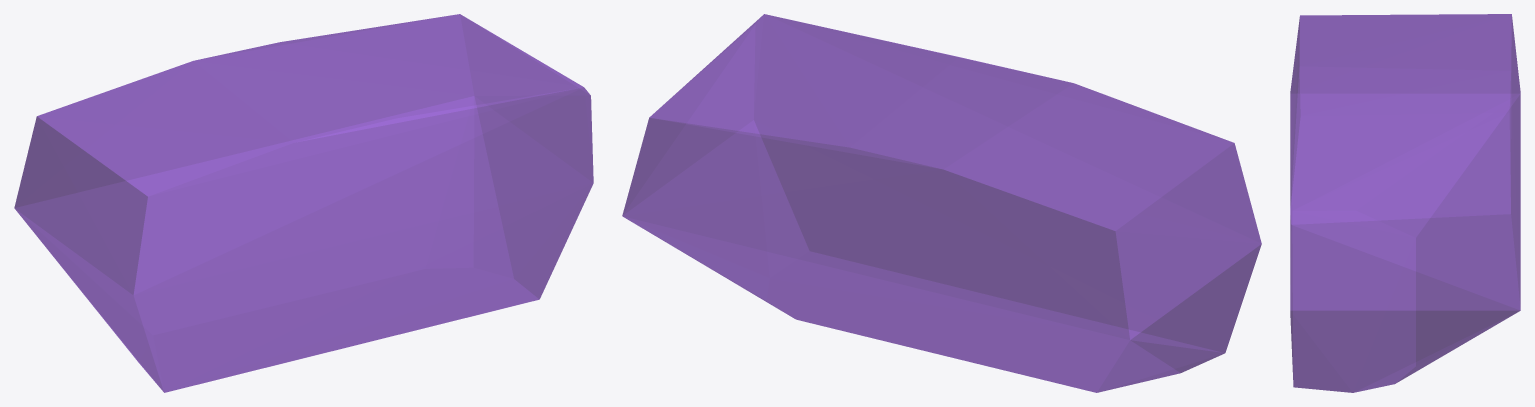
The picture shows the model from 3 angles, left to right: view 1: azimuth 30°, elevation 25°; view 2: azimuth 150°, elevation 25°; view 3: azimuth 270°, elevation 25°; orthographic projection. The views are drawn at different scales.
Visible parts, largest first — view 1: Shape_IndexedFaceSet.022_Shape_IndexedFaceSet.16004; view 2: Shape_IndexedFaceSet.022_Shape_IndexedFaceSet.16004; view 3: Shape_IndexedFaceSet.022_Shape_IndexedFaceSet.16004.
Boxes of the visible parts, x1=… form: Shape_IndexedFaceSet.022_Shape_IndexedFaceSet.16004: x1=14, y1=14, x2=593, y2=392; Shape_IndexedFaceSet.022_Shape_IndexedFaceSet.16004: x1=622, y1=14, x2=1261, y2=392; Shape_IndexedFaceSet.022_Shape_IndexedFaceSet.16004: x1=1290, y1=14, x2=1520, y2=392.
Size of the model in its own units: 0.1694 by 0.0763 by 0.076.
